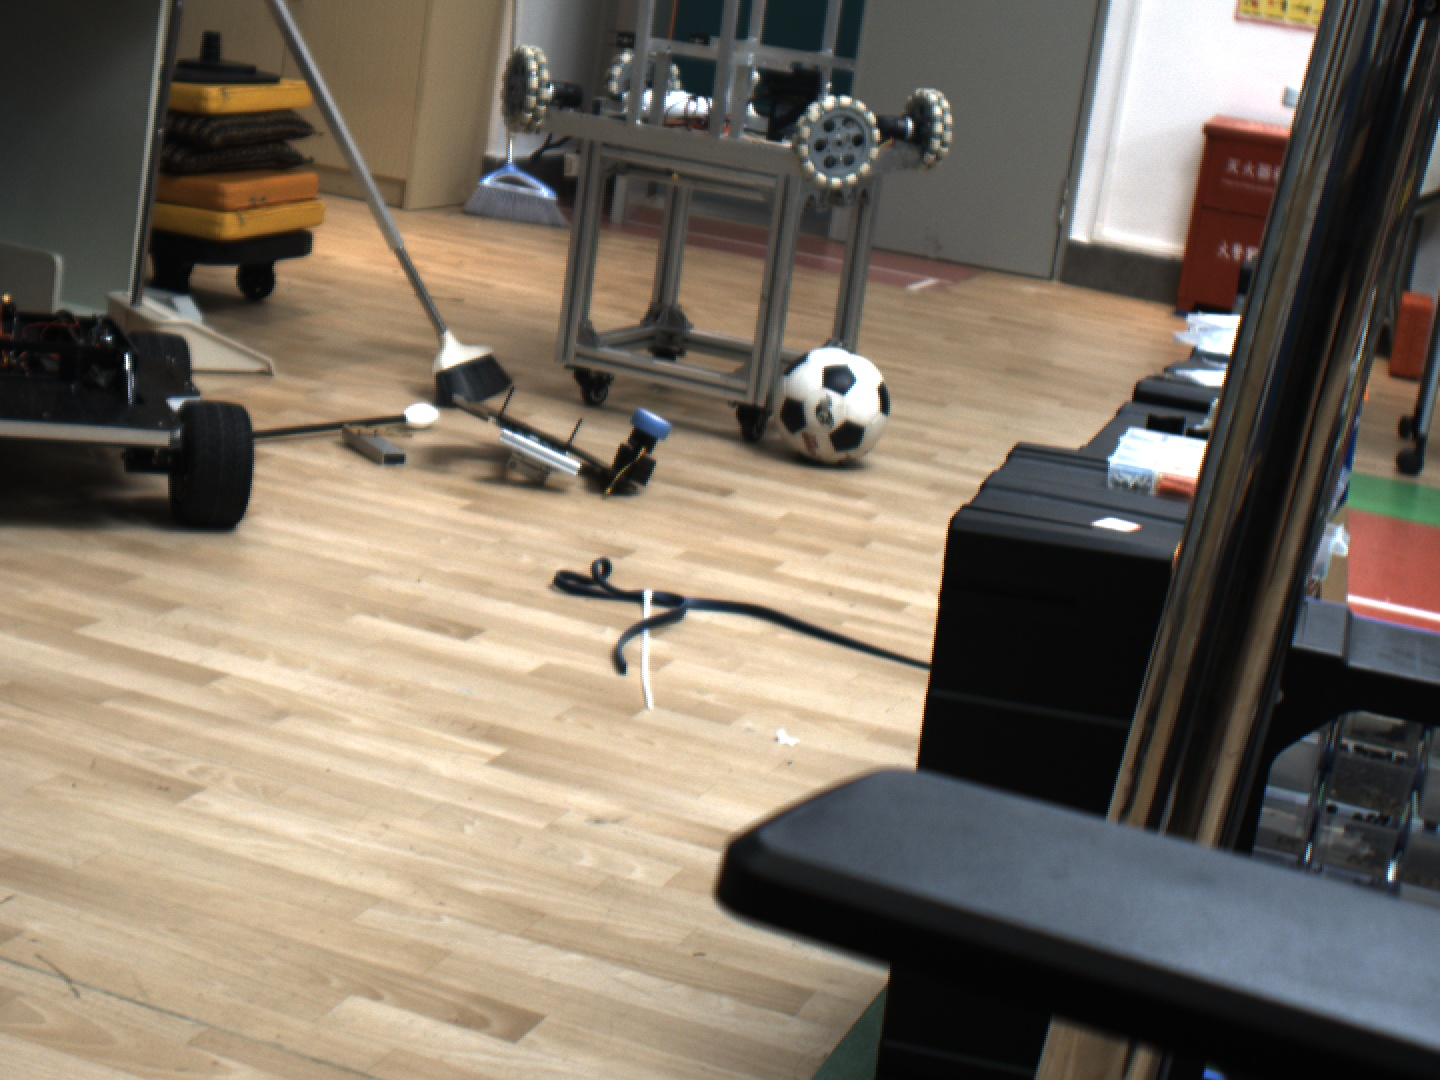ball: (760, 340, 909, 471)
